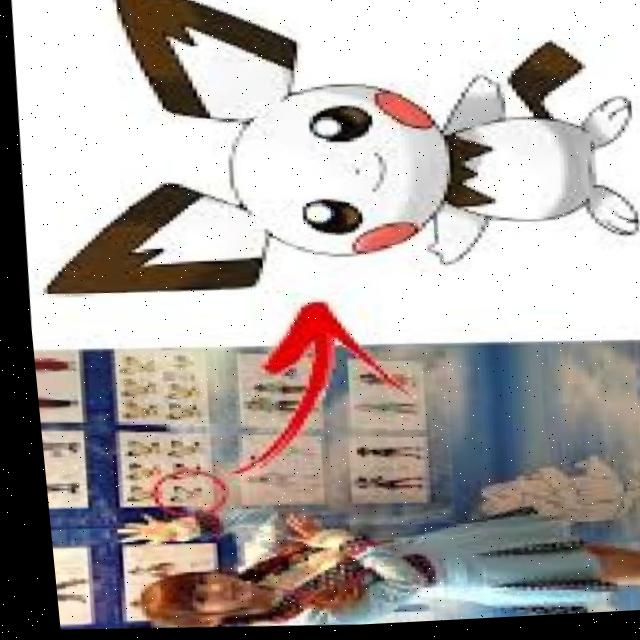pichu: (8, 0, 640, 330)
